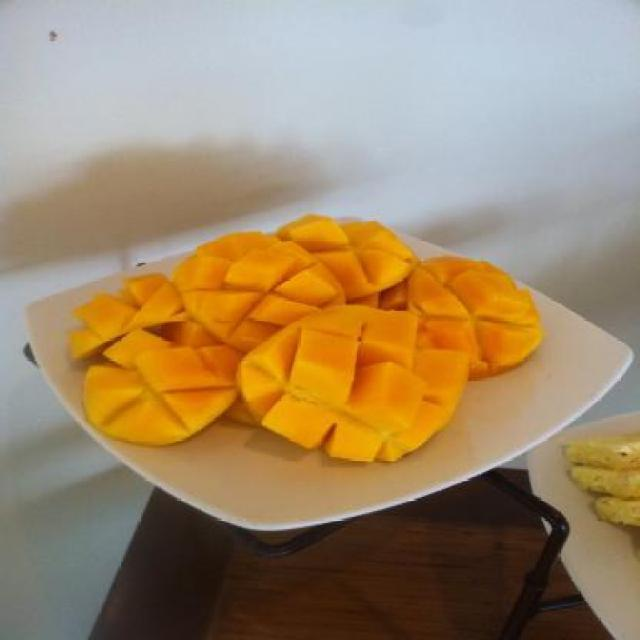Mango: (69, 217, 540, 460), (244, 308, 476, 462)
